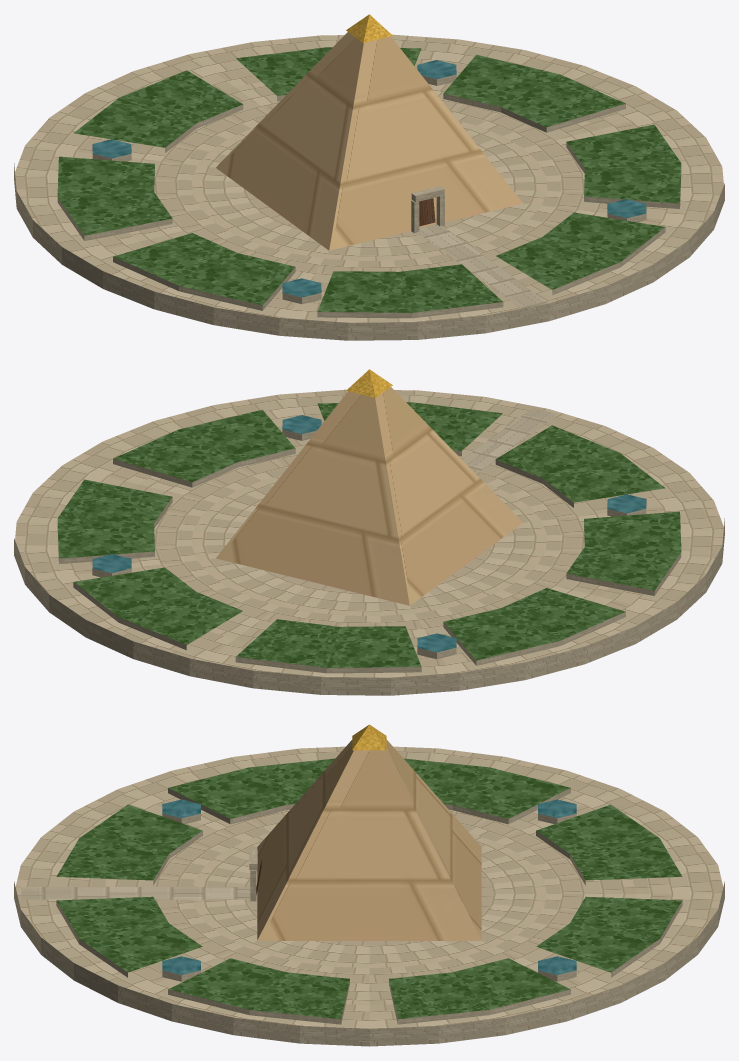
File: pyramid_small_lod1.glb
3 renders of one model, top to bottom at view 1: azimuth 30°, elevation 25°; view 2: azimuth 150°, elevation 25°; view 3: azimuth 270°, elevation 25°, orthographic.
Visible parts, largest first — view 1: pyramid_small_lod1; view 2: pyramid_small_lod1; view 3: pyramid_small_lod1.
Part boxes in pixels (x1,y1,x2,y2): pyramid_small_lod1: [14, 14, 724, 340]; pyramid_small_lod1: [14, 369, 724, 695]; pyramid_small_lod1: [14, 724, 724, 1046].
Size of the model in its own units: 1.88 by 0.512 by 1.9.
Materials: 1 (1 with a texture image).
